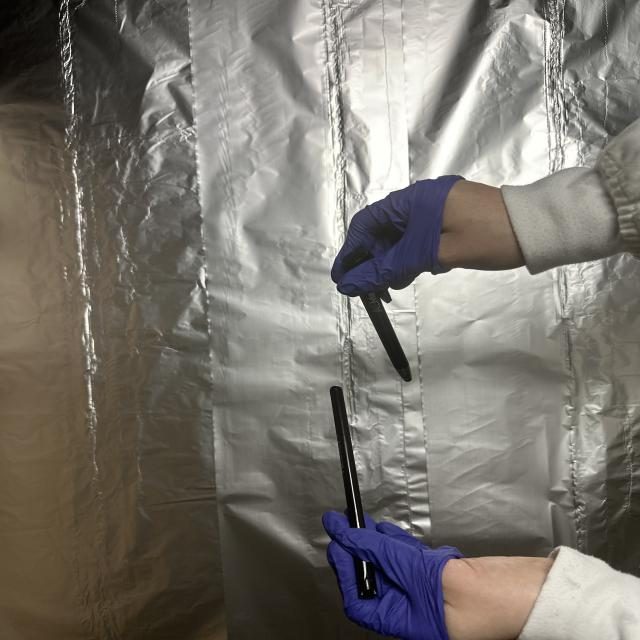glove_partial: (314, 507, 565, 640), (327, 172, 539, 297)
